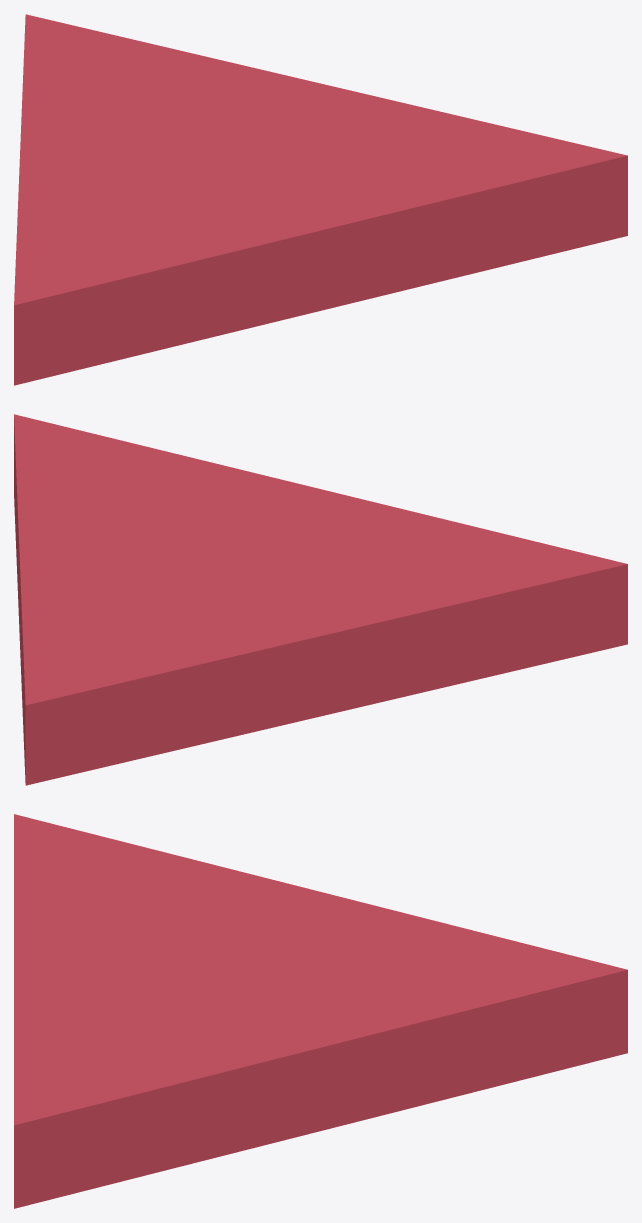
File: drone.glb
3 renders of one model, top to bottom at view 1: azimuth 30°, elevation 25°; view 2: azimuth 150°, elevation 25°; view 3: azimuth 270°, elevation 25°, orthographic. The views are drawn at different scales.
Parts seen in each view (by area): view 1: Mesh_Mesh_head_geo.001_lambert2SG.001; view 2: Mesh_Mesh_head_geo.001_lambert2SG.001; view 3: Mesh_Mesh_head_geo.001_lambert2SG.001.
Part boxes in pixels (x1,y1,x2,y2): Mesh_Mesh_head_geo.001_lambert2SG.001: (14,14,627,385); Mesh_Mesh_head_geo.001_lambert2SG.001: (14,414,627,785); Mesh_Mesh_head_geo.001_lambert2SG.001: (14,814,627,1208).
Bounding box in the file's own units: 24 × 3 × 20.
